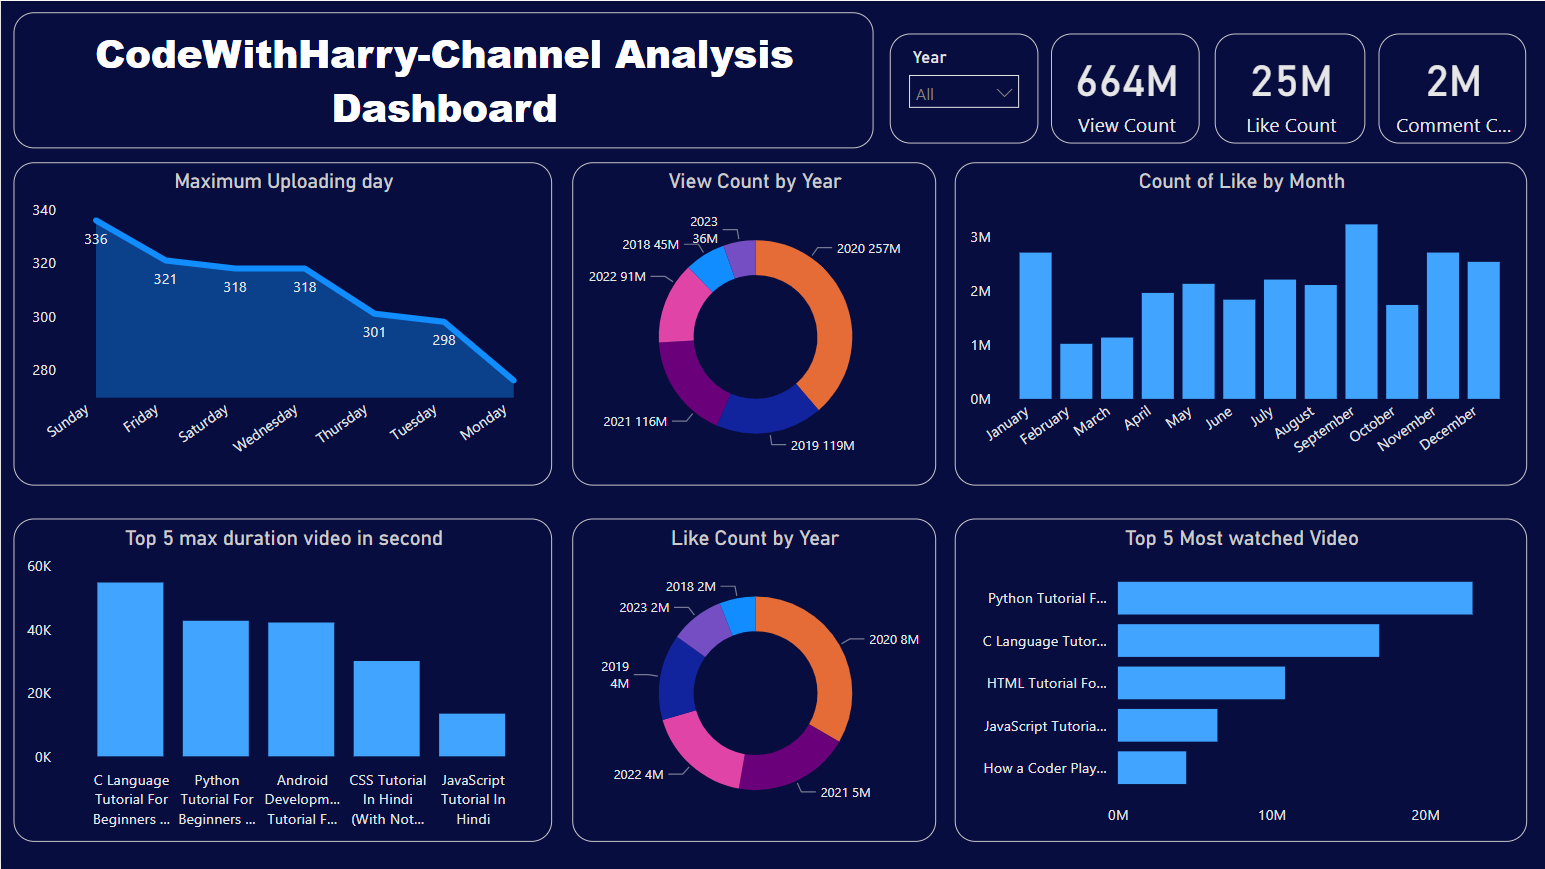

Layout of this report page (visuals, bound fields, positions):
{"tool":"powerbi","page":{"name":"Page 1","canvas":[1280,720],"ordinal":0},"visuals":[{"type":"textbox","box":[10.6,9.3,712.4,112.8],"z":0},{"type":"columnChart","title":"Count of Like by Month","fields":{"Y":["Weekday.likeCount"],"Category":["Weekday.publishedAt.Variation.Date Hierarchy.Month"]},"box":[790.3,134,474.4,267.9],"z":1000},{"type":"barChart","title":"Top 5 Most watched Video","fields":{"Category":["Weekday.title"],"Y":["Weekday.viewCount"]},"box":[790.3,428.7,474.4,267.9],"z":2000},{"type":"donutChart","title":"View Count by Year","fields":{"Category":["Weekday.Year"],"Y":["Weekday.viewCount"]},"box":[473.3,134,301.4,267.9],"z":2001},{"type":"donutChart","title":"Like Count by Year","fields":{"Category":["Weekday.Year"],"Y":["Weekday.likeCount"]},"box":[473.3,428.7,301.4,267.9],"z":2002},{"type":"card","fields":{"Values":["Weekday.commentCount"]},"box":[1142,26.8,122.8,91.5],"z":2003},{"type":"card","fields":{"Values":["Weekday.viewCount"]},"box":[870.3,26.5,123.4,91.5],"z":2004},{"type":"card","fields":{"Values":["Weekday.likeCount"]},"box":[1005.6,26.5,124.7,91.5],"z":2005},{"type":"stackedAreaChart","title":"Maximum Uploading day","fields":{"Category":["Weekday.Weekday"],"Y":["Weekday.title"]},"box":[10,134,446.5,267.9],"z":2006},{"type":"columnChart","title":"Top 5 max duration video in second","fields":{"Y":["Weekday.durationSec"],"Category":["Weekday.title"]},"box":[10,428.7,446.5,267.9],"z":2007},{"type":"slicer","fields":{"Values":["Weekday.Year"]},"box":[736.3,26.5,123.4,91.5],"z":2008}]}

Visuals, with their boxes in screenshot pixels (x1, y1, x2, y2), scaled from the page's 1280x720 canvas onto the 1545x869 screenshot:
textbox: x1=13 y1=11 x2=873 y2=147
"Count of Like by Month" columnChart: x1=954 y1=162 x2=1527 y2=485
"Top 5 Most watched Video" barChart: x1=954 y1=517 x2=1527 y2=841
"View Count by Year" donutChart: x1=571 y1=162 x2=935 y2=485
"Like Count by Year" donutChart: x1=571 y1=517 x2=935 y2=841
card - Weekday.commentCount: x1=1378 y1=32 x2=1527 y2=143
card - Weekday.viewCount: x1=1050 y1=32 x2=1199 y2=142
card - Weekday.likeCount: x1=1214 y1=32 x2=1364 y2=142
"Maximum Uploading day" stackedAreaChart: x1=12 y1=162 x2=551 y2=485
"Top 5 max duration video in second" columnChart: x1=12 y1=517 x2=551 y2=841
slicer - Weekday.Year: x1=889 y1=32 x2=1038 y2=142
